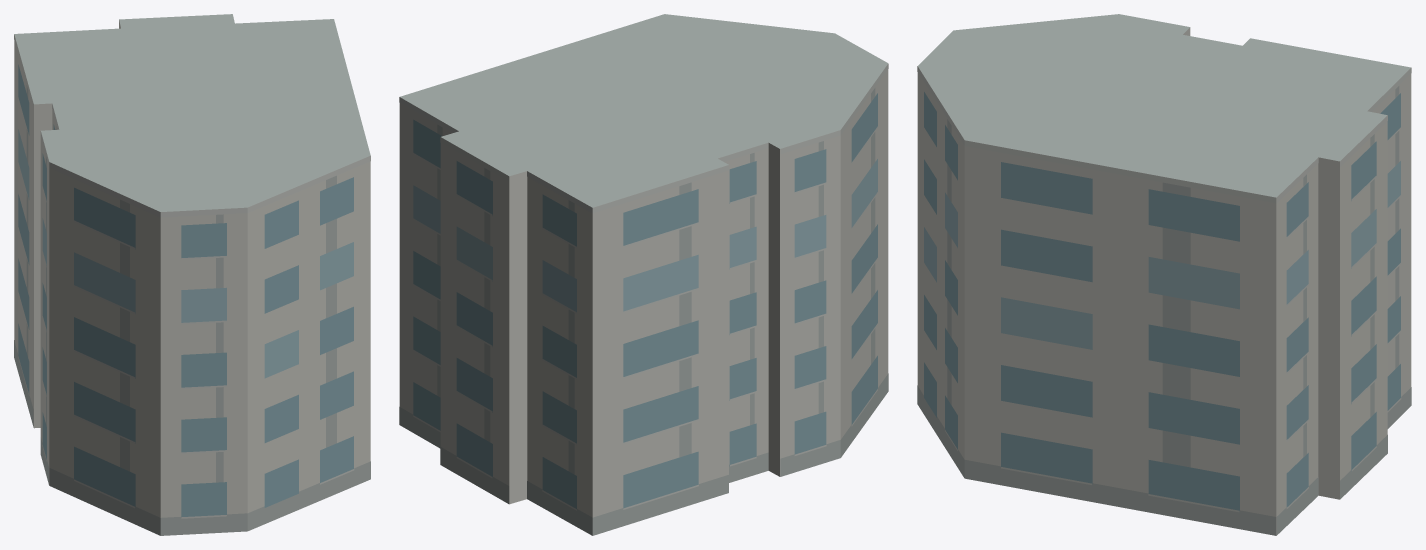
The model's file is survey-upis-32894137.glb.
3 views of the same model, side by side, from view 1: azimuth 30°, elevation 25°; view 2: azimuth 150°, elevation 25°; view 3: azimuth 270°, elevation 25° (orthographic). The views are drawn at different scales.
Visible parts, largest first — view 1: survey-upis-32894137.tmp; view 2: survey-upis-32894137.tmp; view 3: survey-upis-32894137.tmp.
Part boxes in pixels (<box>): survey-upis-32894137.tmp: <box>14,14,370,535</box>; survey-upis-32894137.tmp: <box>399,14,888,535</box>; survey-upis-32894137.tmp: <box>917,14,1411,535</box>.
Bounding box in the file's own units: 16.42 × 14.1 × 18.66.
